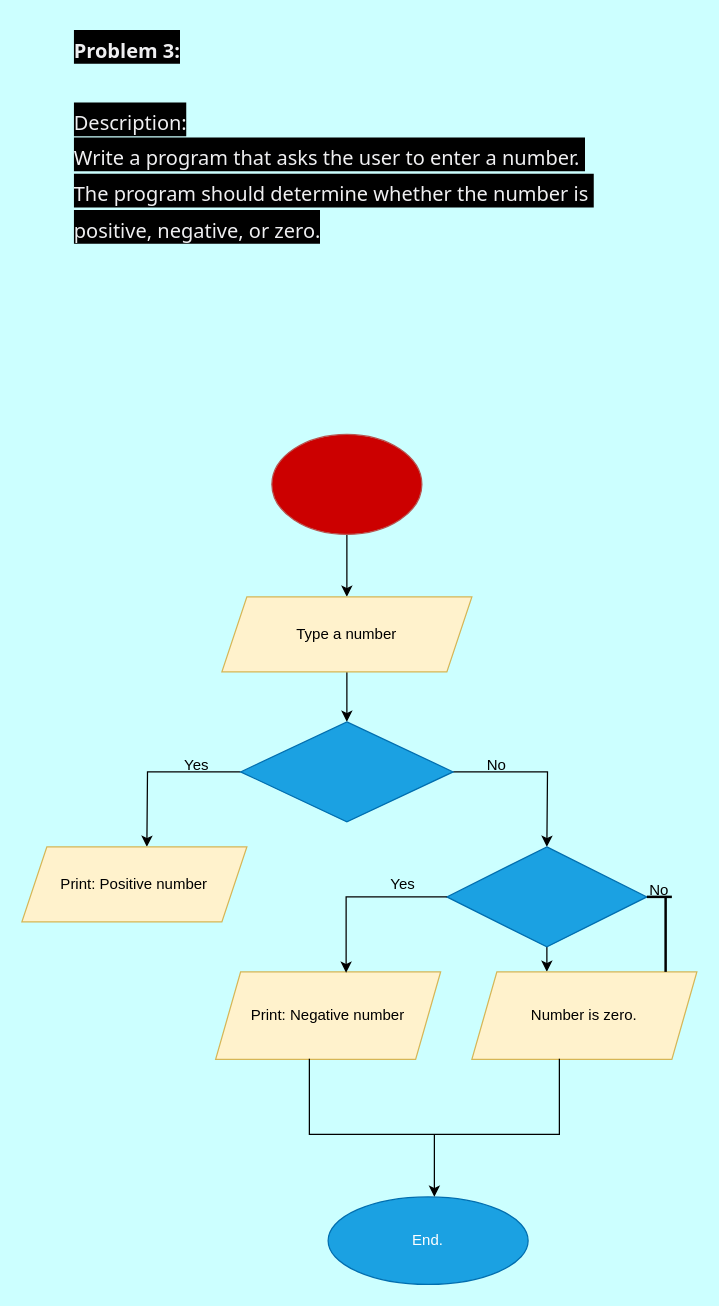
This 719x1306 diagram has some shape labels left out. Each missing label, with the centre of its shape:
Number < 0: [546,896]
Number > O: [346,771]
Start: [346,483]
